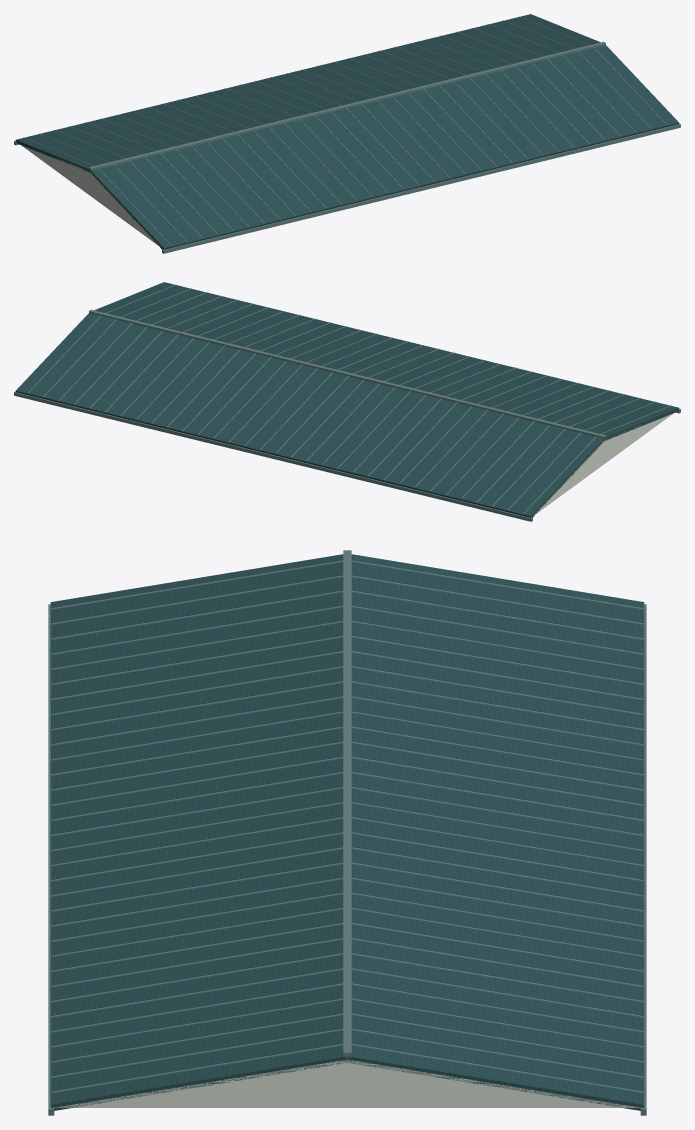
The model's file is roof-upper.glb.
3 views of the same model, one above another, from view 1: azimuth 30°, elevation 25°; view 2: azimuth 150°, elevation 25°; view 3: azimuth 270°, elevation 25° (orthographic). The views are drawn at different scales.
Bounding box in the file's own units: 23.4 × 1.33 × 11.72.
Materials: 5 (3 with a texture image).
